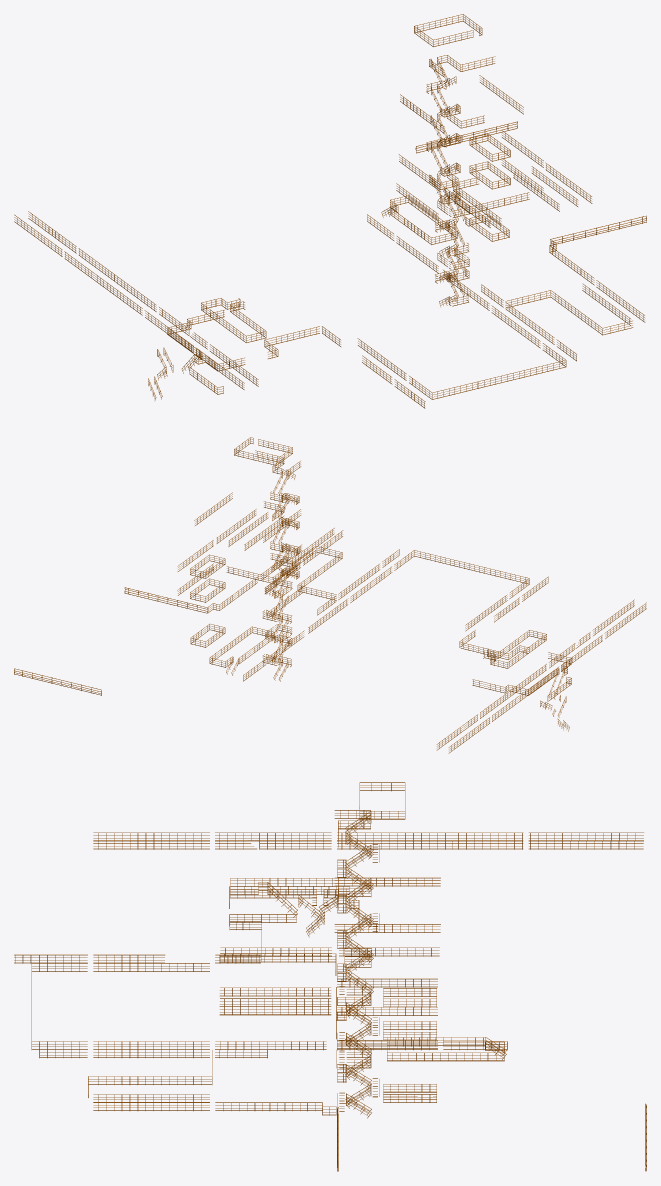
3 views of the same model, one above another, from view 1: azimuth 30°, elevation 25°; view 2: azimuth 150°, elevation 25°; view 3: azimuth 270°, elevation 25° (orthographic). The views are drawn at different scales.
Parts seen in each view (by area): view 1: Object368; view 2: Object368; view 3: Object368.
Boxes of the visible parts, <box> form: Object368: <box>14,14,646,408</box>; Object368: <box>14,437,646,753</box>; Object368: <box>14,782,646,1171</box>.
Bounding box in the file's own units: 8790 × 4547 × 7991.
